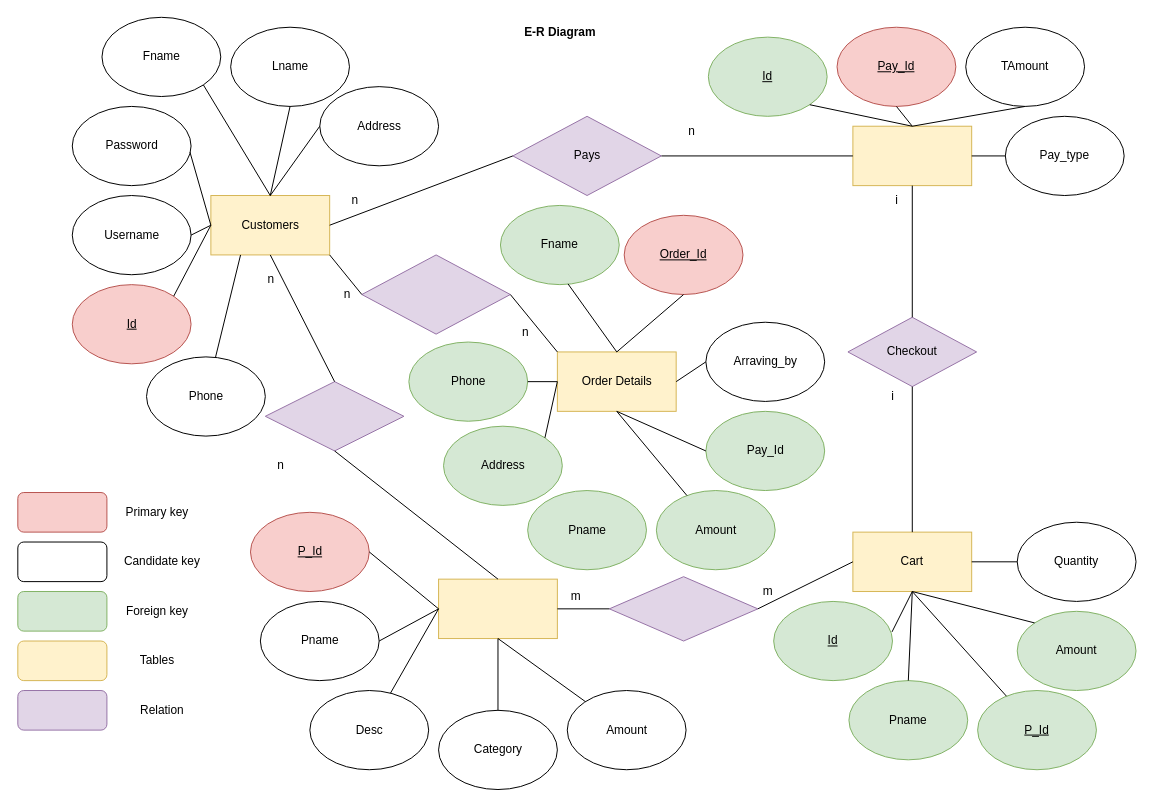
The diagram is 1153 pixels wide and 807 high, and some of its shapes have lost their labels. Each missing label, with the centre of its shape:
Are added into: pixel 683 608
Buys: pixel 334 416
Order summary: pixel 435 294
Payment: pixel 912 155
Products: pixel 497 608
